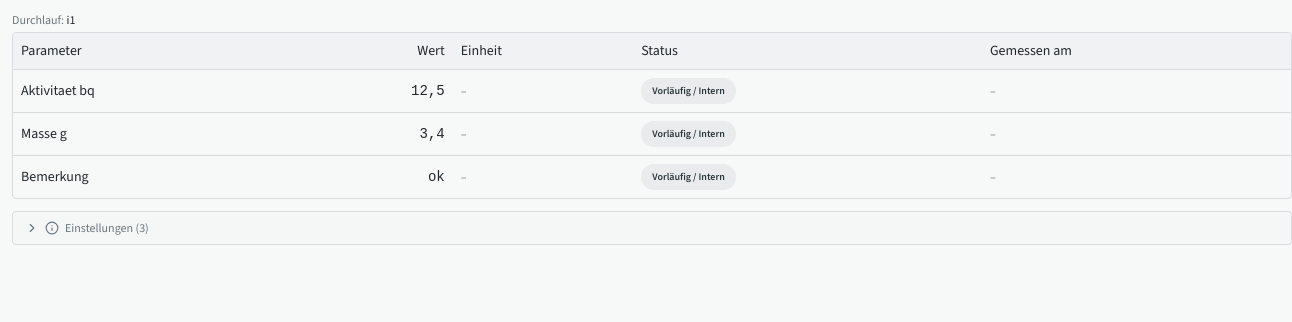
it: Wertetabelle › gefüllter Block: Zeilen mit Bezeichnung, Einstellungen nur unter Details
This screenshot has width=1292, height=322.
Expected: the text "Aktivitaet bq" is shown, [13,70,296,112]
Expected: the text "12,5" is shown, [296,70,453,112]
What coordinates should you click on to do the following:
click the button "Einstellungen (3)"
I would click on:
 (102, 228)
Its box is [25,220,1279,236].
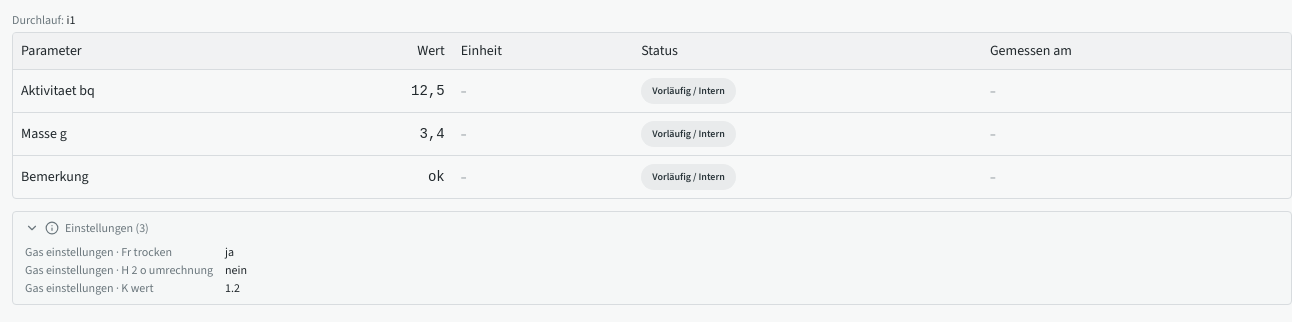
Expected: the text "Gas einstellungen · Fr trocken" is shown, [25,244,172,260]
Expected: the text "ja" is shown, [225,244,234,260]
